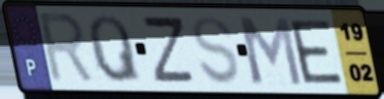E: (286, 17, 346, 86)
M: (234, 14, 306, 88)
Q: (86, 13, 145, 86)
R: (36, 10, 99, 87)
S: (191, 14, 242, 88)
Z: (142, 15, 198, 86)
